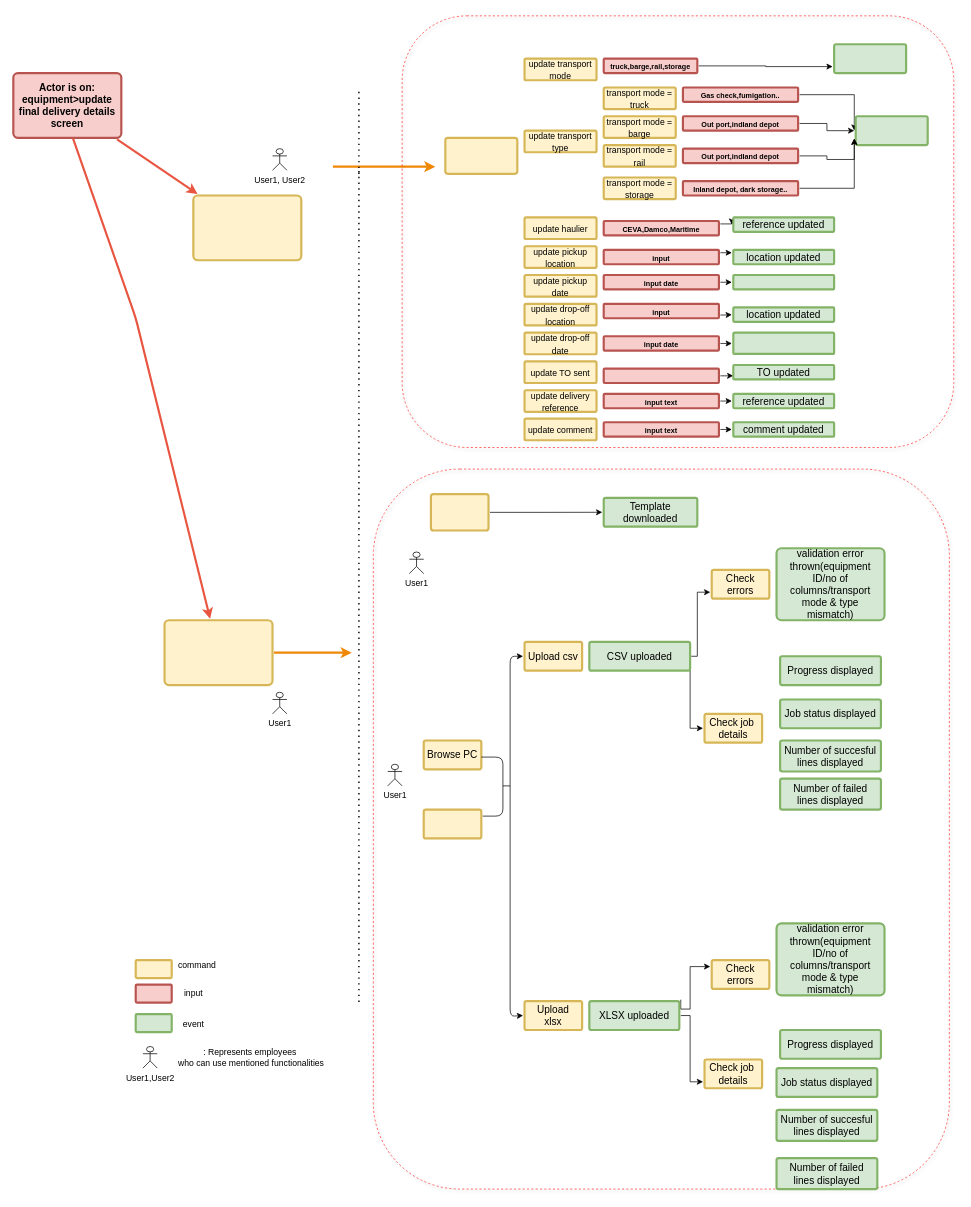
The diagram is 971 pixels wide and 1207 high, and some of its shapes have lost their labels. The shapes that lost their labels are listed below. From the top down, each one's centre as x and y in pixels, then its label:
At (870,58): "transport mode updated".
At (891,130): "transport type updated".
At (481,155): "Update estimates".
At (247,227): "Update actuals(single equipment record)".
At (783,282): "pickup date updated".
At (783,343): "drop-off date updated".
At (661,375): "Y/N".
At (459,512): "Download template(in csv/xlsx)".
At (218,652): "Update actuals(multiple records in bulk)".
At (452,823): "Drag & Drop".
